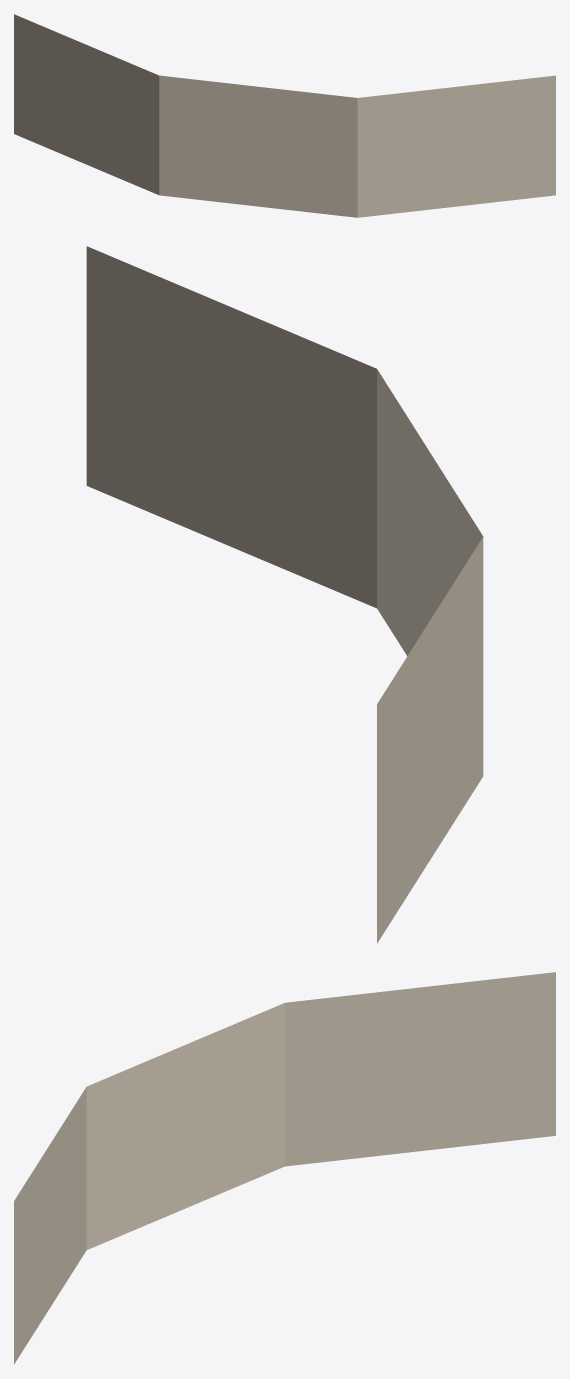
Rendered from Escarpment_Terrain_Corner_Inner_3x3_Mid.glb.
3 views of the same model, one above another, from view 1: azimuth 30°, elevation 25°; view 2: azimuth 150°, elevation 25°; view 3: azimuth 270°, elevation 25° (orthographic). The views are drawn at different scales.
Visible parts, largest first — view 1: Escarpment_Terrain_Corner_Inner_3x3_Mid; view 2: Escarpment_Terrain_Corner_Inner_3x3_Mid; view 3: Escarpment_Terrain_Corner_Inner_3x3_Mid.
Boxes of the visible parts, x1,y1,x2,y2 form: Escarpment_Terrain_Corner_Inner_3x3_Mid: (14, 14, 555, 217); Escarpment_Terrain_Corner_Inner_3x3_Mid: (86, 246, 483, 943); Escarpment_Terrain_Corner_Inner_3x3_Mid: (14, 972, 555, 1364).
Bounding box in the file's own units: 3 × 1 × 3.
